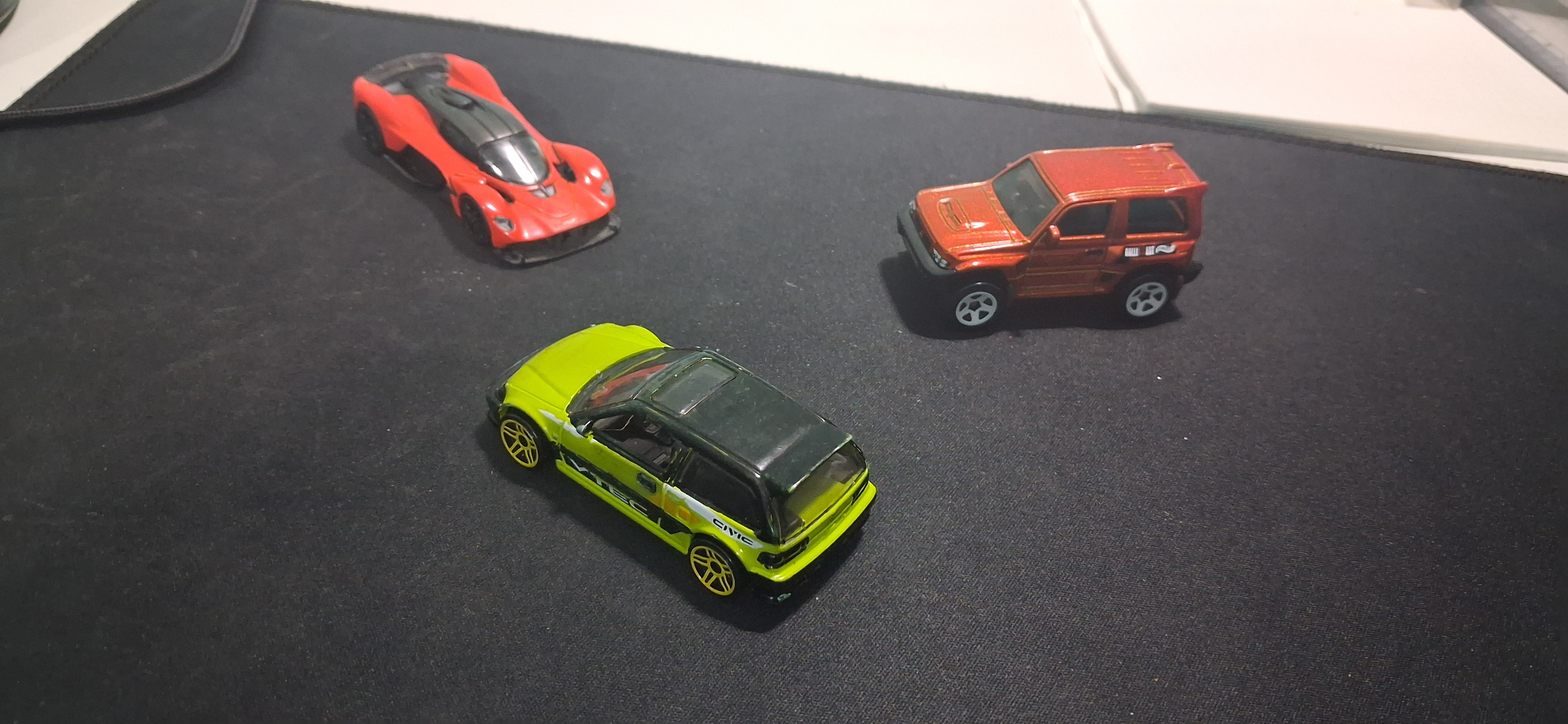Aston_Martin_Valkyrie: (309, 27, 666, 271)
Honda_Civic: (477, 292, 899, 642)
Mitsubishi_Pajero_Evolution: (865, 129, 1278, 344)
